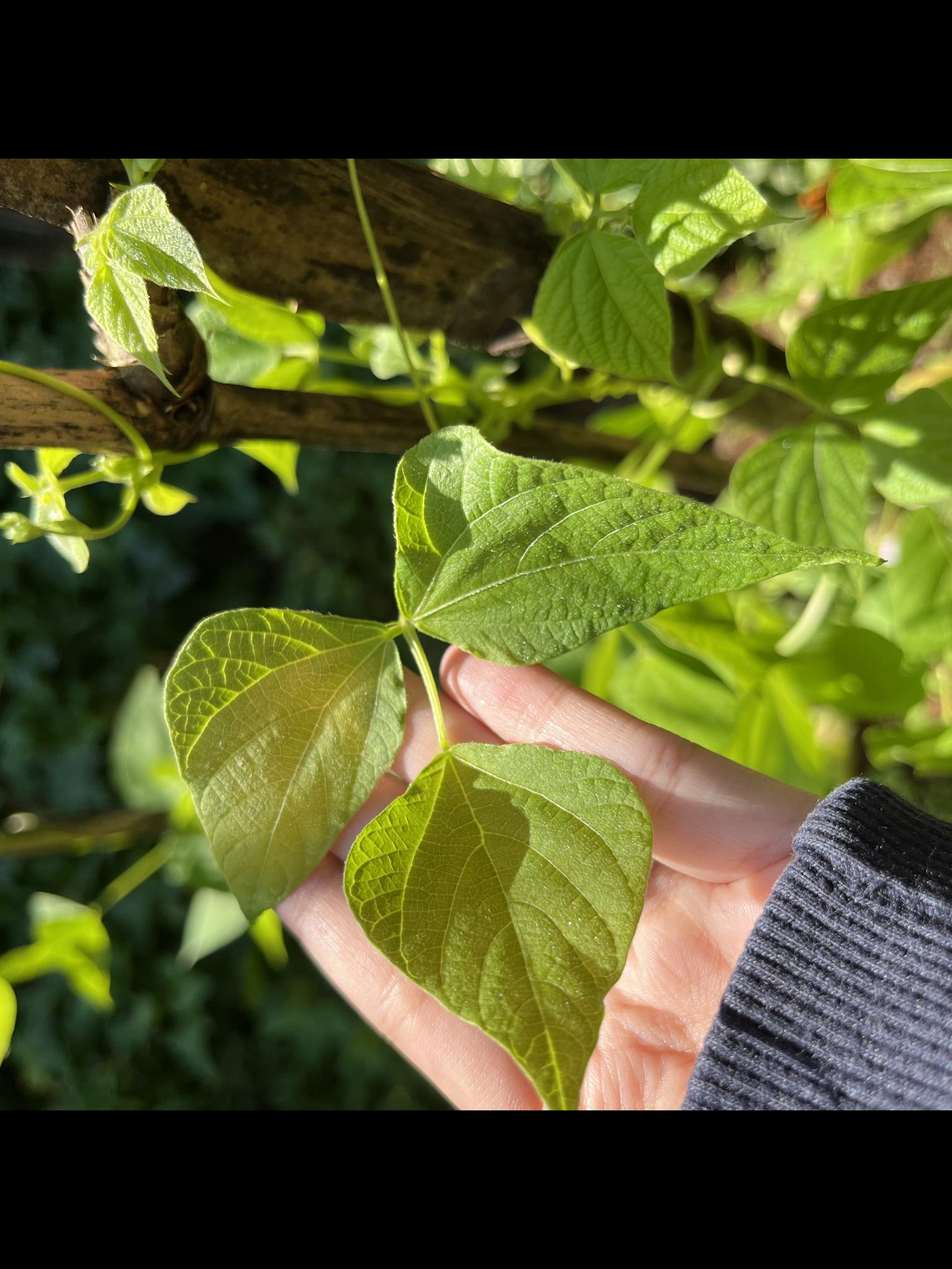sehat: (347, 736, 662, 1110)
